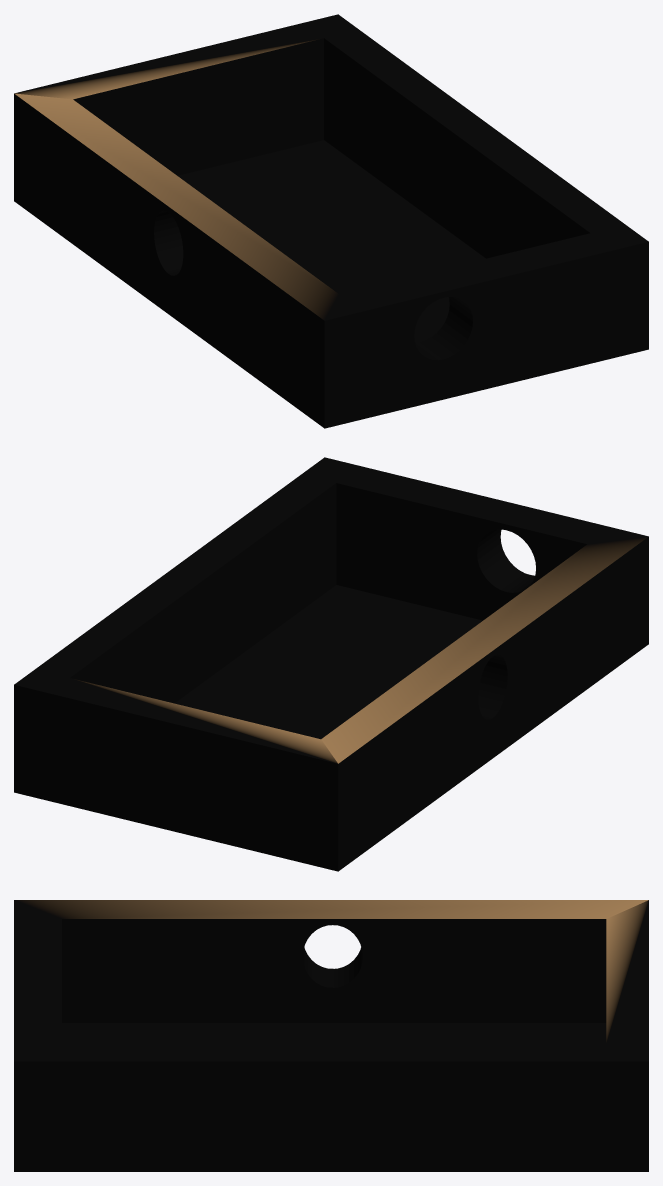
File: box-bigger.fbx
3 renders of one model, top to bottom at view 1: azimuth 30°, elevation 25°; view 2: azimuth 150°, elevation 25°; view 3: azimuth 270°, elevation 25°, orthographic. The views are drawn at different scales.
Parts seen in each view (by area): view 1: box-bigger; view 2: box-bigger; view 3: box-bigger.
Part boxes in pixels (<box>): box-bigger: <box>14,14,648,428</box>; box-bigger: <box>14,457,648,871</box>; box-bigger: <box>14,900,648,1171</box>.
Size of the model in its own units: 125 by 39.71 by 208.
